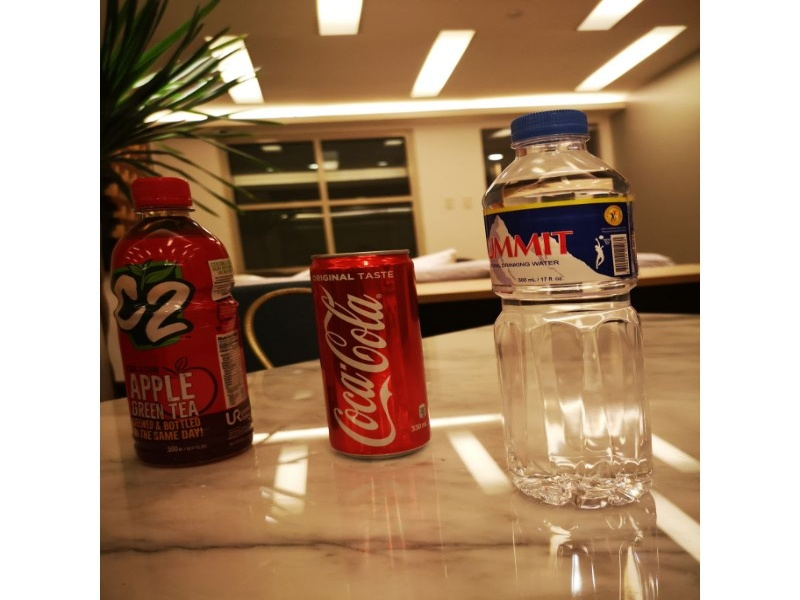PET #1: (480, 108, 661, 514), (113, 175, 258, 470)
